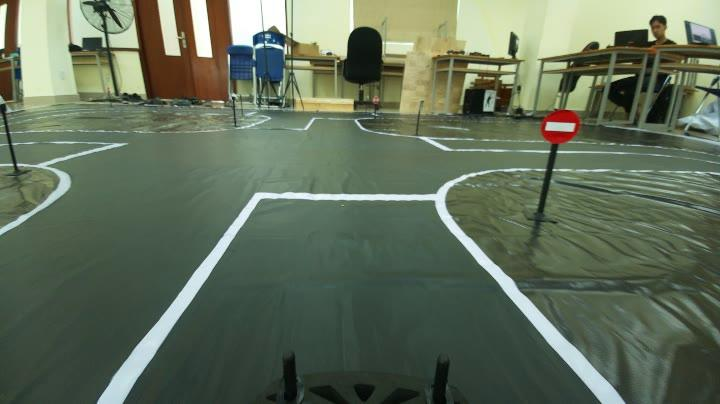no_entry: (538, 103, 584, 151)
